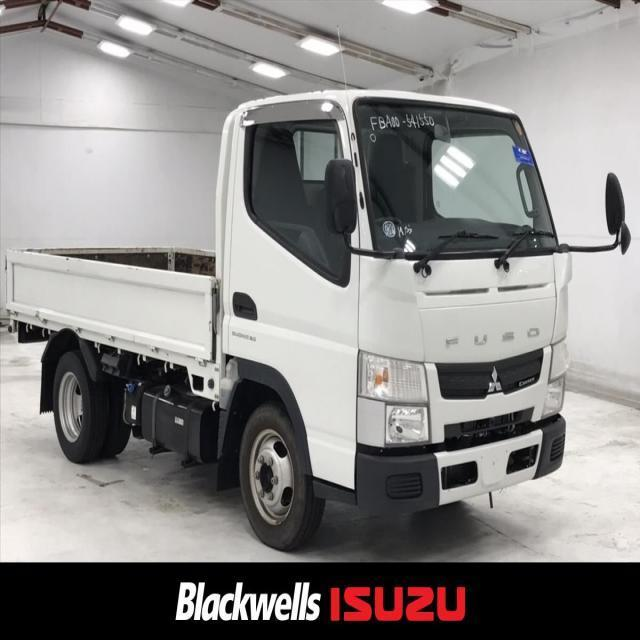truck: (0, 90, 629, 550)
